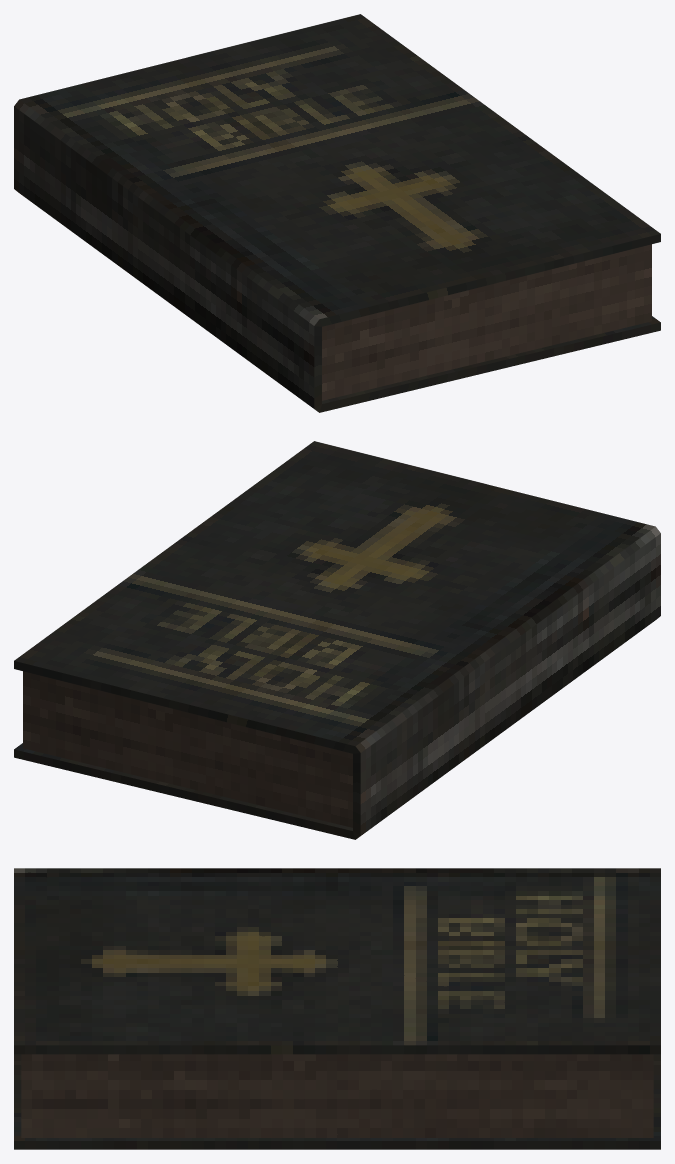
File: book_mp_8.glb
3 views of the same model, one above another, from view 1: azimuth 30°, elevation 25°; view 2: azimuth 150°, elevation 25°; view 3: azimuth 270°, elevation 25° (orthographic). The views are drawn at different scales.
Visible parts, largest first — view 1: book_mp_8; view 2: book_mp_8; view 3: book_mp_8.
Part boxes in pixels (bbox=[...]): book_mp_8: bbox=[14, 14, 660, 412]; book_mp_8: bbox=[14, 441, 660, 839]; book_mp_8: bbox=[14, 868, 660, 1149].
Bounding box in the file's own units: 0.18 × 0.048 × 0.27.
1 material, 1 textured.
